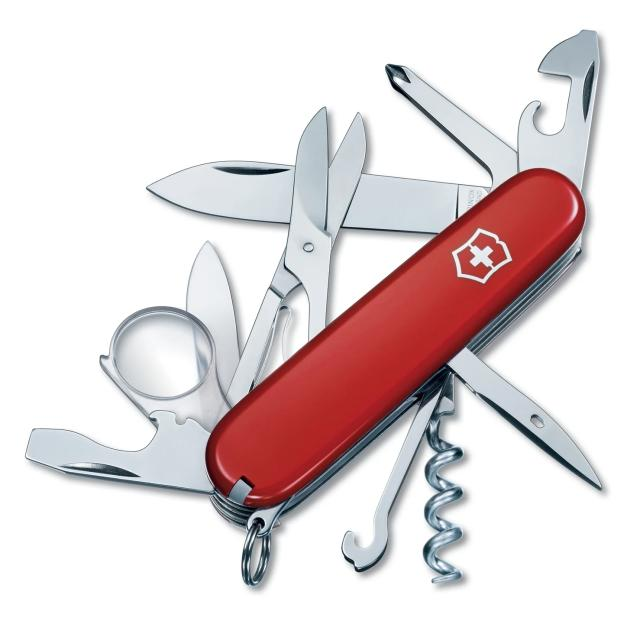knife victorinox: (206, 169, 585, 507)
